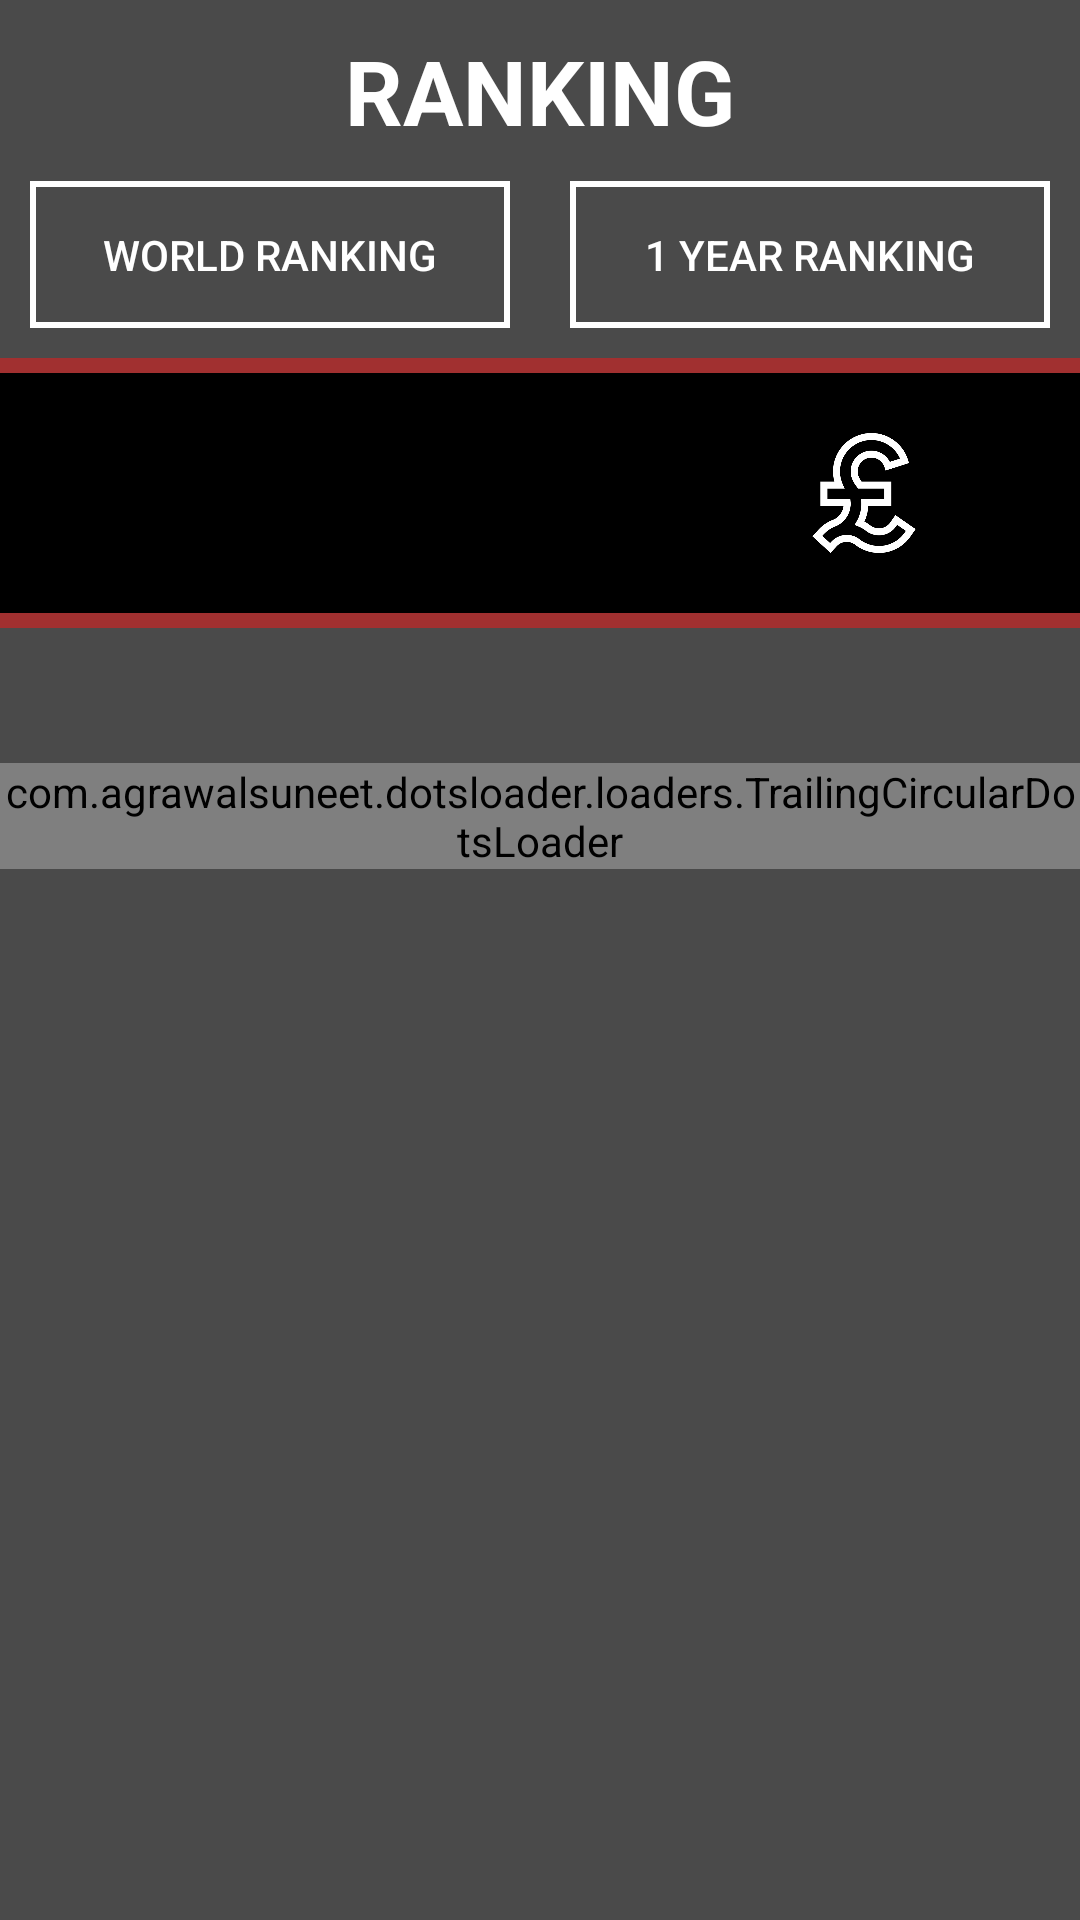

Named icons in this screenshot (1080×1920) and their bounding boxes, (left=x1, top=y1, right=x2, bottom=y2):
libra: (left=812, top=433, right=916, bottom=553)
